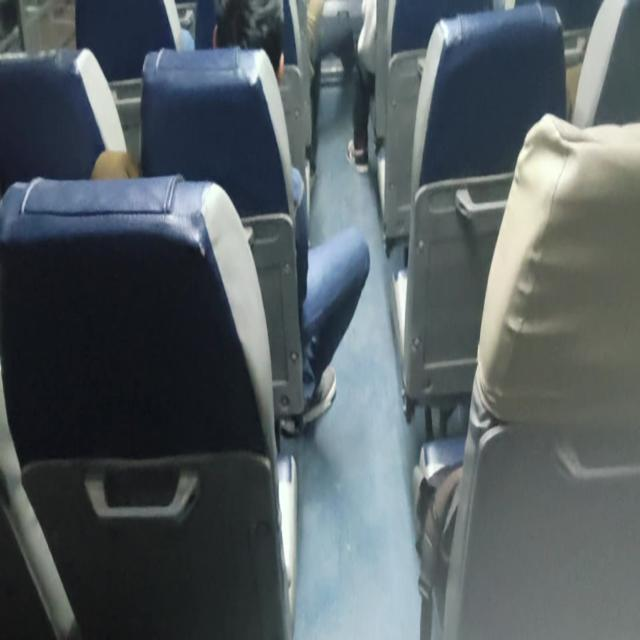person: (200, 0, 299, 100)
